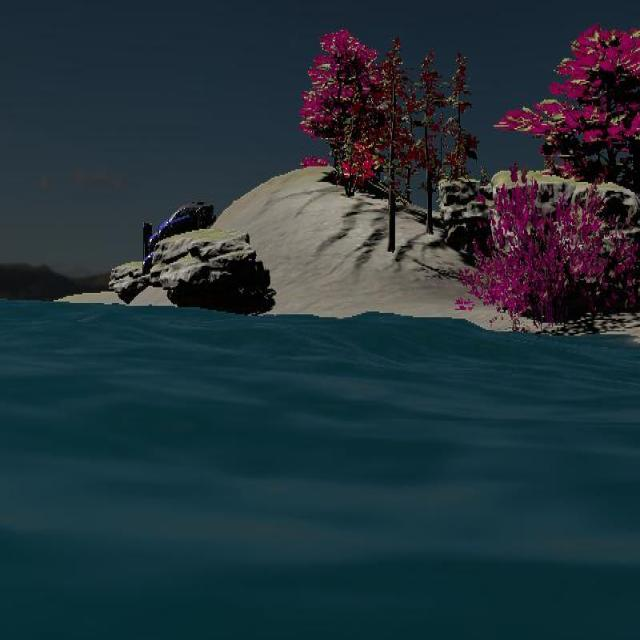car: (146, 201, 218, 256)
